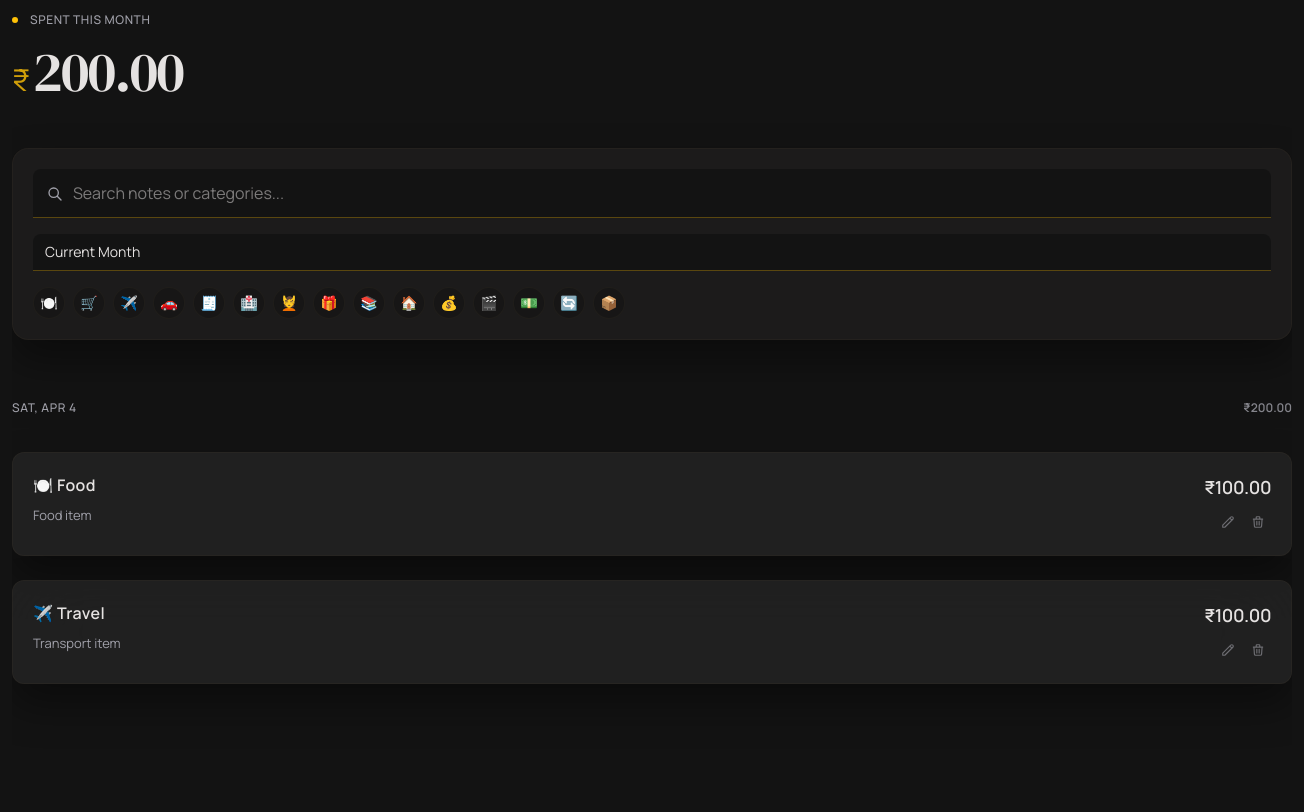
Test: ExpenseList › filters by category
This screenshot has width=1304, height=812.
Note: Click category bubble to filter
Click the button named "Food" at (49, 303), box [33,287,65,319]
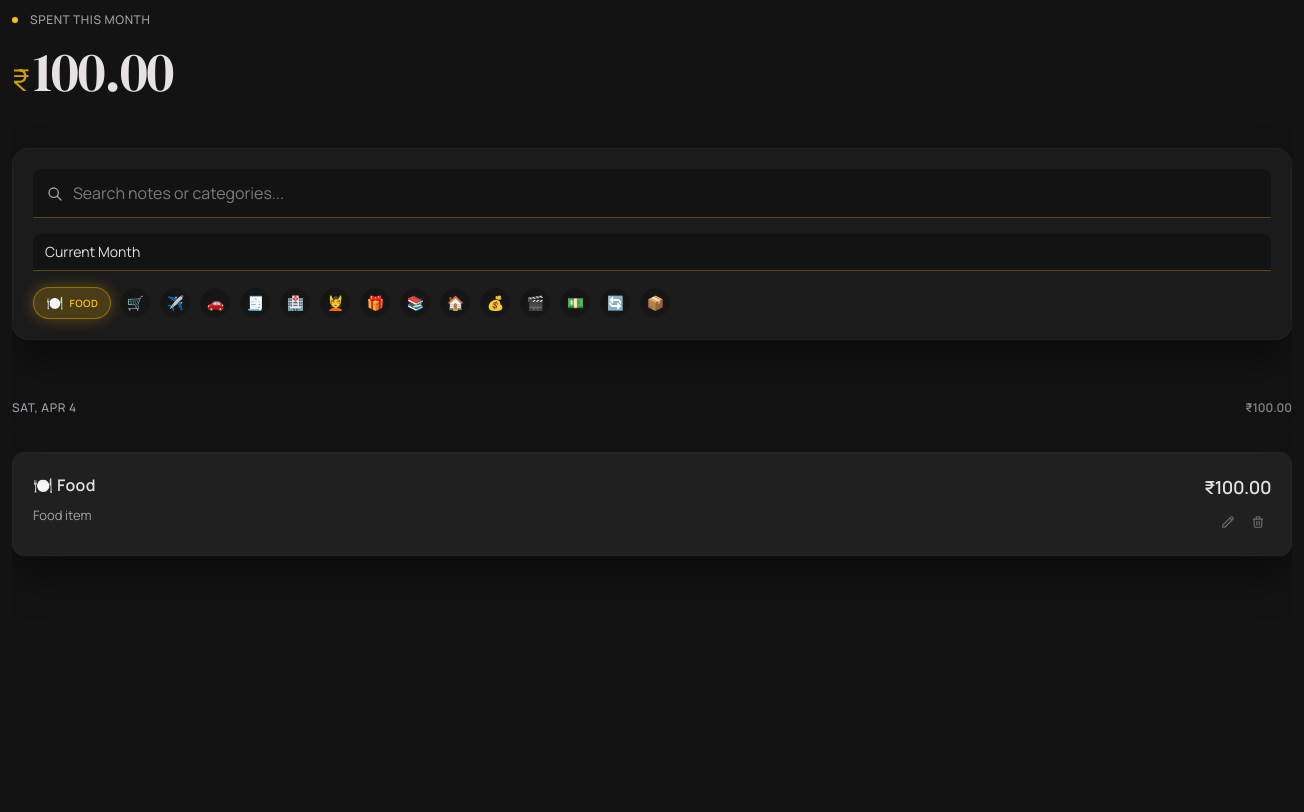
Expected: the text "Food item" is shown, [33,506,92,524]
Expected: the text "Transport item" is gone
